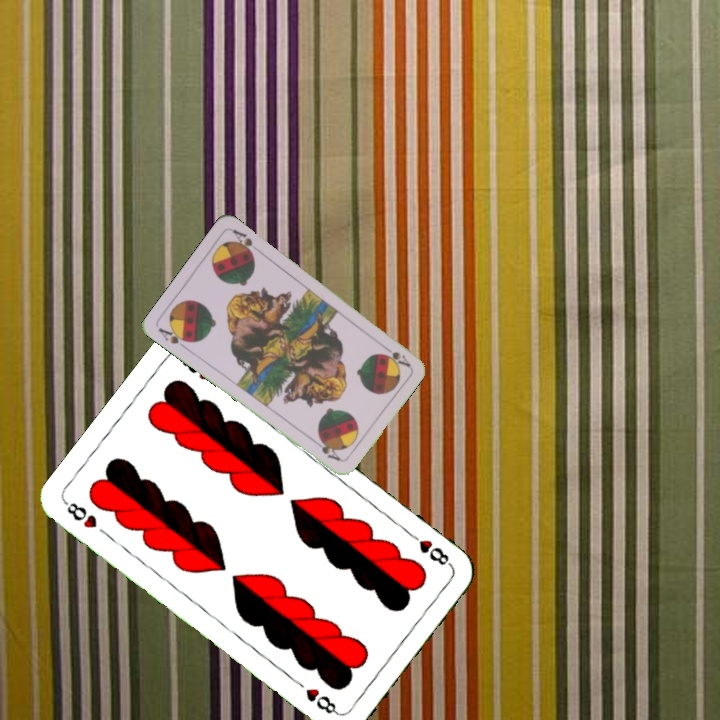H8: (404, 528, 455, 569), (61, 498, 100, 531)
SA: (154, 324, 194, 352), (378, 340, 413, 370)
